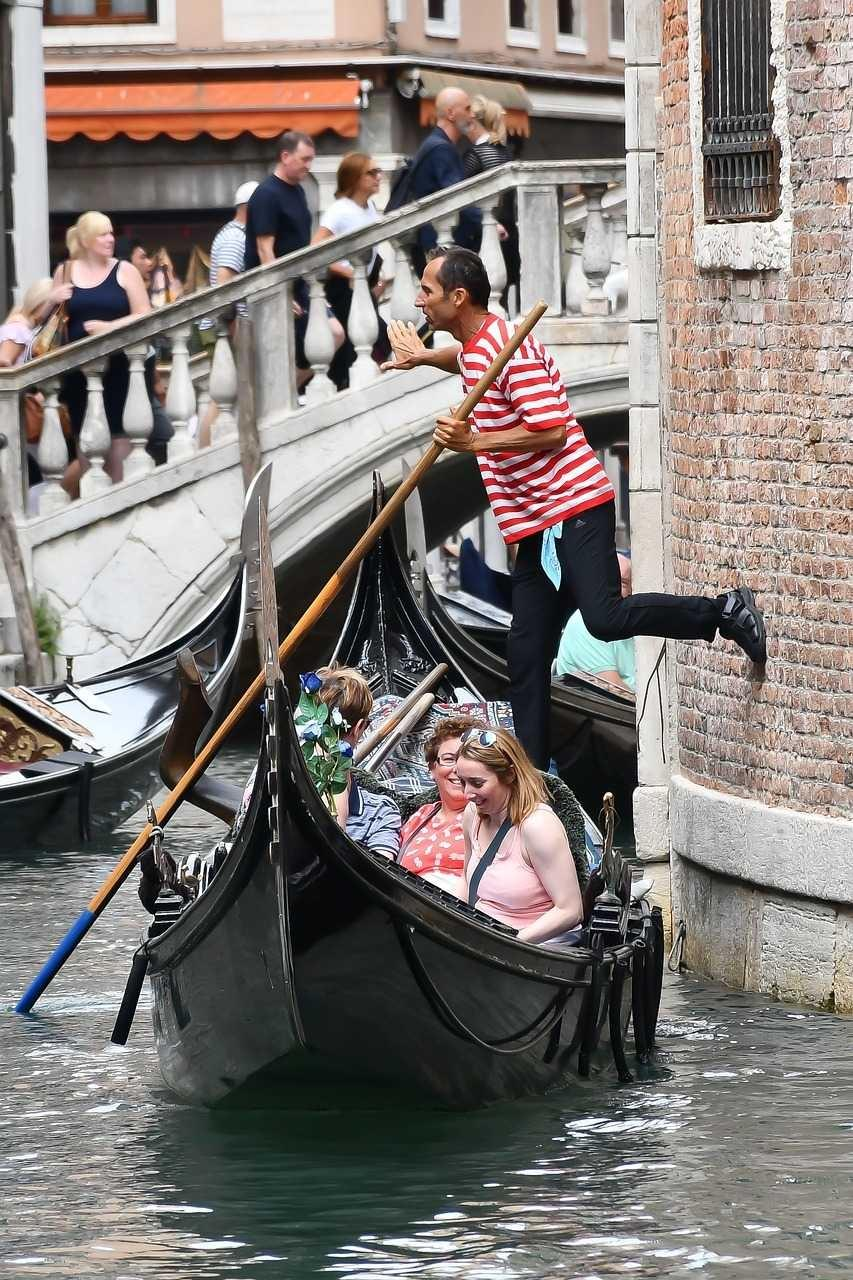kayak: (138, 585, 663, 1114), (3, 354, 503, 851), (375, 442, 639, 747)
